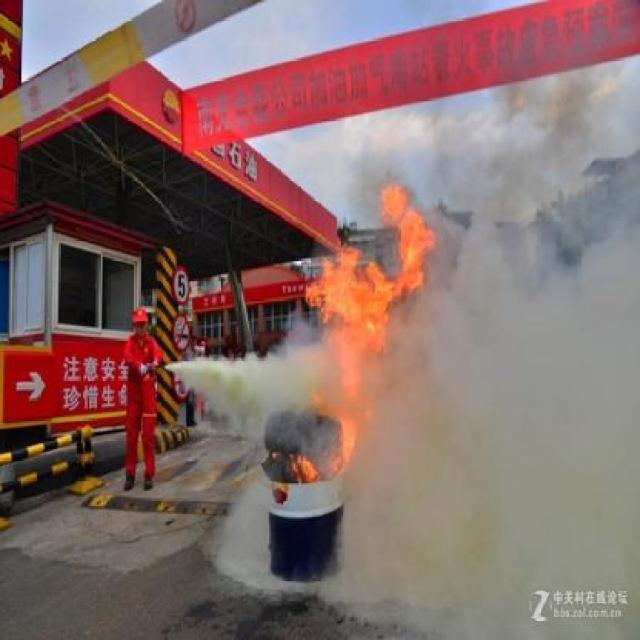Fire: (306, 186, 422, 474)
Smoke: (437, 177, 640, 637)
